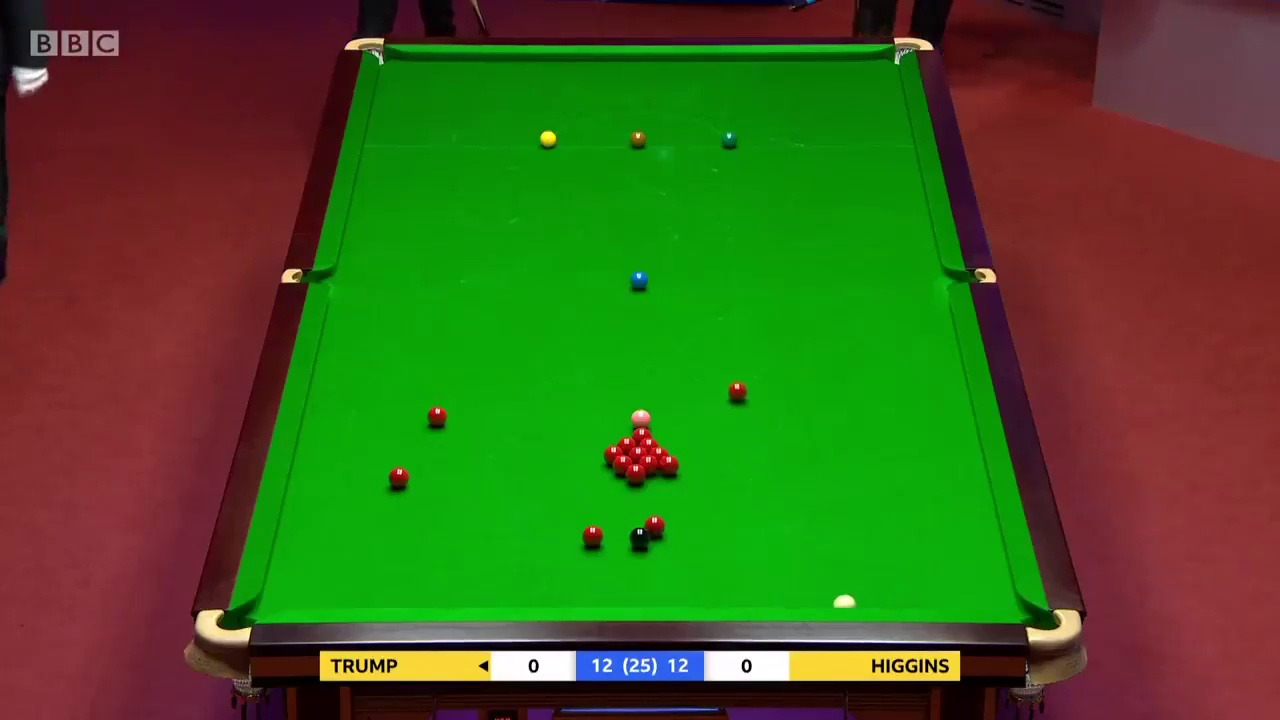black: (631, 529, 649, 549)
blue: (631, 271, 647, 289)
brown: (630, 132, 646, 148)
green: (718, 131, 738, 148)
pink: (633, 409, 651, 426)
red: (581, 525, 603, 548), (656, 455, 678, 477), (388, 468, 408, 488), (730, 379, 748, 401), (646, 515, 664, 537), (427, 407, 445, 427), (625, 464, 643, 484)
yellow: (537, 130, 559, 148)
